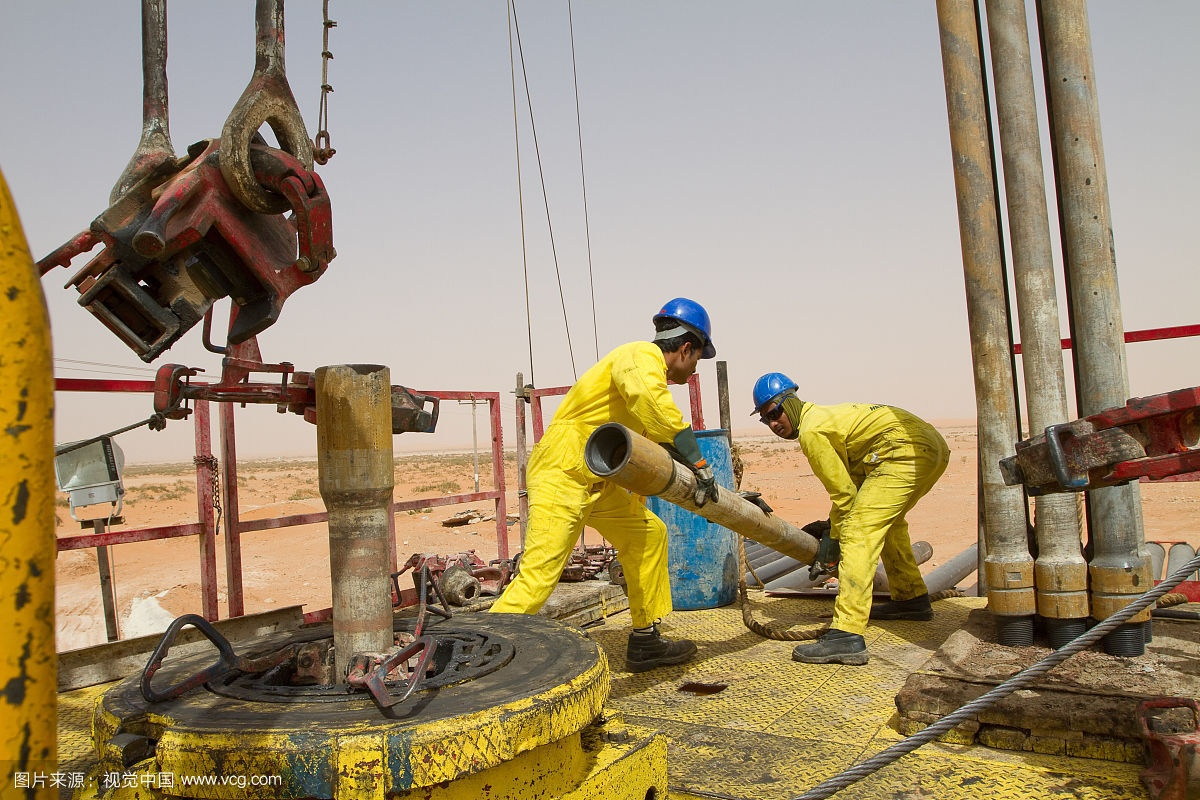blue: (643, 295, 723, 384), (746, 369, 805, 448)
